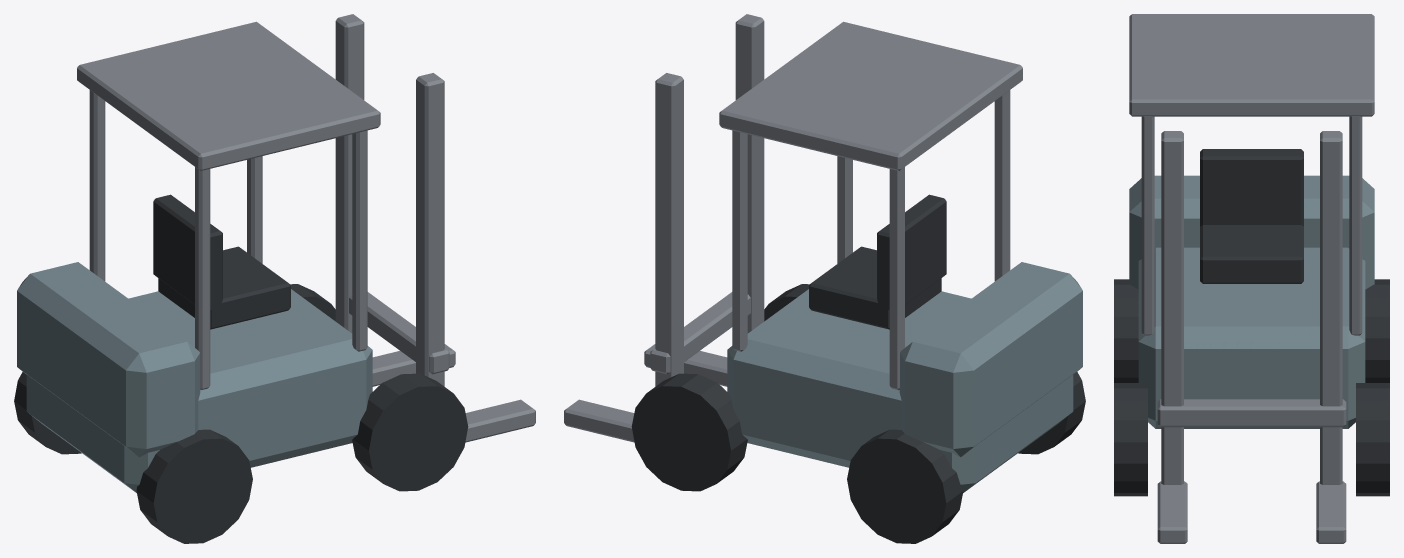
File: forklift.glb
The picture shows the model from 3 angles, left to right: view 1: azimuth 30°, elevation 25°; view 2: azimuth 150°, elevation 25°; view 3: azimuth 270°, elevation 25°; orthographic projection.
Visible parts, largest first — view 1: forklift; view 2: forklift; view 3: forklift.
Part boxes in pixels (x1,y1,x2,y2): forklift: (14, 14, 535, 543); forklift: (564, 14, 1085, 543); forklift: (1114, 14, 1389, 543).
Bounding box in the file's own units: 2.52 × 2.2 × 1.46.
